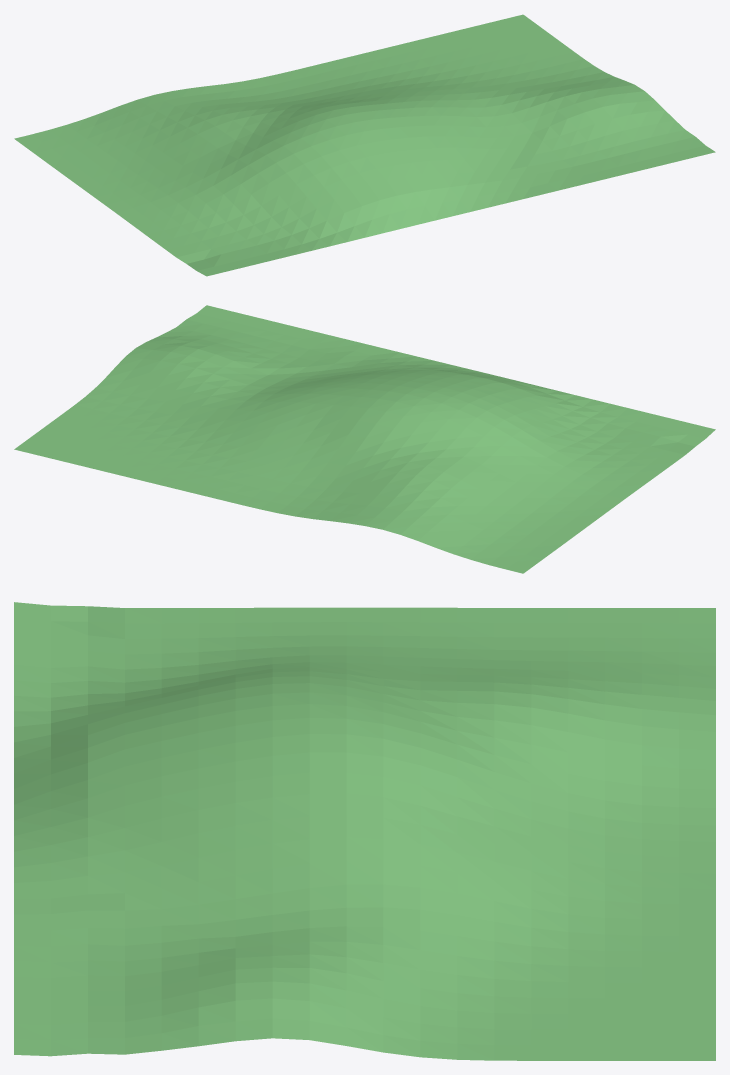
The model's file is surfacegreen.fbx.
3 views of the same model, one above another, from view 1: azimuth 30°, elevation 25°; view 2: azimuth 150°, elevation 25°; view 3: azimuth 270°, elevation 25° (orthographic). The views are drawn at different scales.
Parts seen in each view (by area): view 1: whatever_BaseMesh; view 2: whatever_BaseMesh; view 3: whatever_BaseMesh.
Boxes of the visible parts, bbox=[...] form: whatever_BaseMesh: bbox=[14, 14, 715, 276]; whatever_BaseMesh: bbox=[14, 305, 715, 573]; whatever_BaseMesh: bbox=[14, 602, 715, 1060].
Size of the model in its own units: 40.46 by 3.23 by 26.51.
